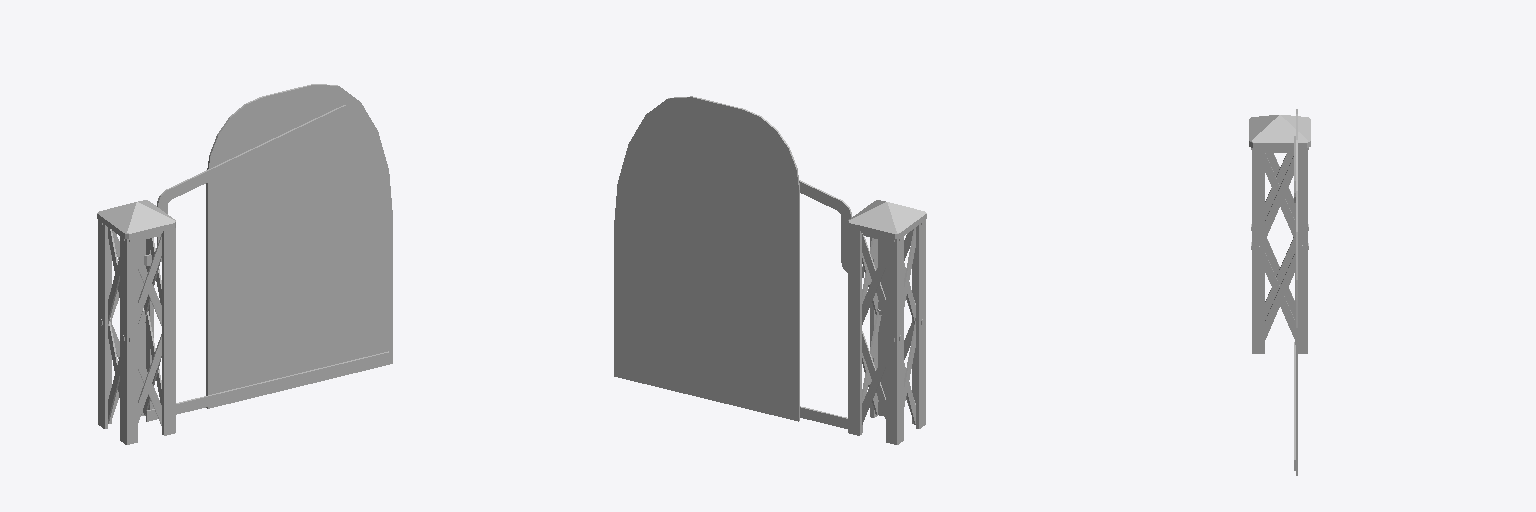
The model's file is lms_post_lattice_top_w_accessory.obj.
The picture shows the model from 3 angles: view 1: azimuth 30°, elevation 25°; view 2: azimuth 150°, elevation 25°; view 3: azimuth 270°, elevation 25°; orthographic projection.
Visible parts, largest first — view 1: lattice_top_w_accessory_Cube.019; view 2: lattice_top_w_accessory_Cube.019; view 3: lattice_top_w_accessory_Cube.019.
Part boxes in pixels (x1,y1,x2,y2): lattice_top_w_accessory_Cube.019: (97,84,392,444); lattice_top_w_accessory_Cube.019: (614,96,926,444); lattice_top_w_accessory_Cube.019: (1249,109,1310,475).
Size of the model in its own units: 1.46 by 1.43 by 0.2667.